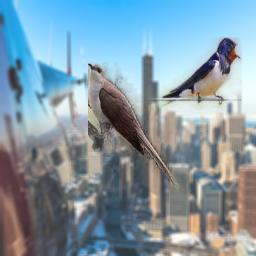Cuckoo: (88, 62, 180, 192)
Swallow: (148, 37, 242, 111)
